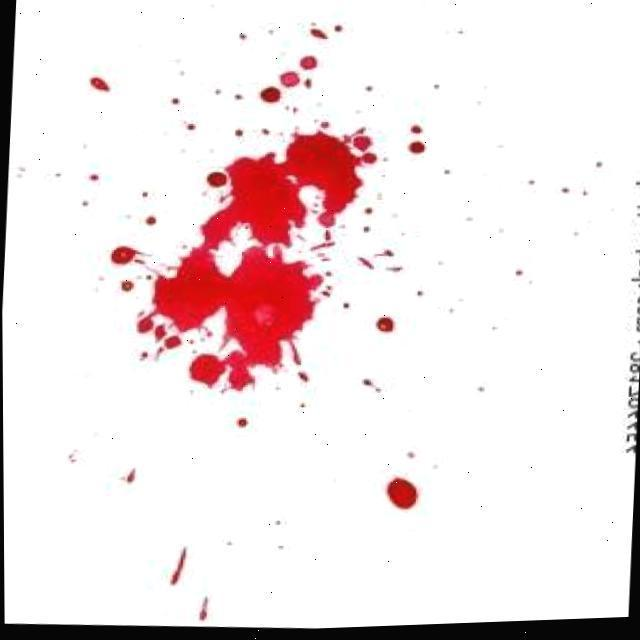knife: (225, 245, 313, 339), (227, 154, 308, 244), (153, 246, 228, 334), (286, 132, 361, 215), (199, 207, 236, 250), (165, 541, 193, 593), (239, 337, 283, 369), (386, 477, 424, 512), (189, 353, 224, 387), (226, 350, 254, 392), (133, 310, 151, 345), (195, 593, 215, 623), (110, 244, 136, 264), (115, 467, 141, 484), (258, 86, 282, 104), (89, 76, 111, 93), (205, 171, 227, 188), (318, 211, 336, 230), (279, 70, 299, 87), (353, 136, 373, 152), (299, 55, 318, 71), (375, 317, 395, 332), (289, 343, 301, 366), (306, 273, 323, 289), (164, 335, 182, 350), (407, 141, 427, 154), (310, 27, 328, 41), (153, 325, 166, 341), (119, 280, 134, 292), (363, 153, 378, 165), (358, 257, 373, 269), (312, 243, 336, 250), (411, 124, 422, 135), (236, 418, 247, 428), (297, 371, 307, 382), (145, 215, 155, 225), (364, 206, 372, 216), (324, 230, 331, 241)
